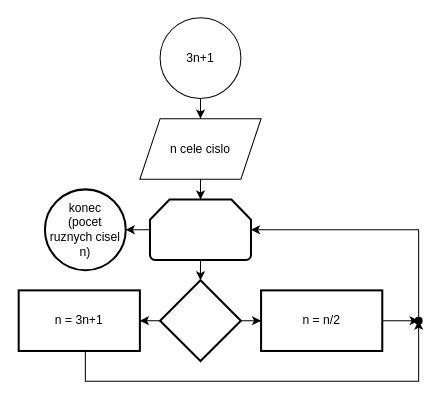
This 446x407 diagram has some shape labels left out. Here are the shapes that lost their labels. From the top down, the box of each, then its label:
(148, 198, 251, 261): dokud n je vetsi nez 1
(159, 279, 241, 362): n je liche?
